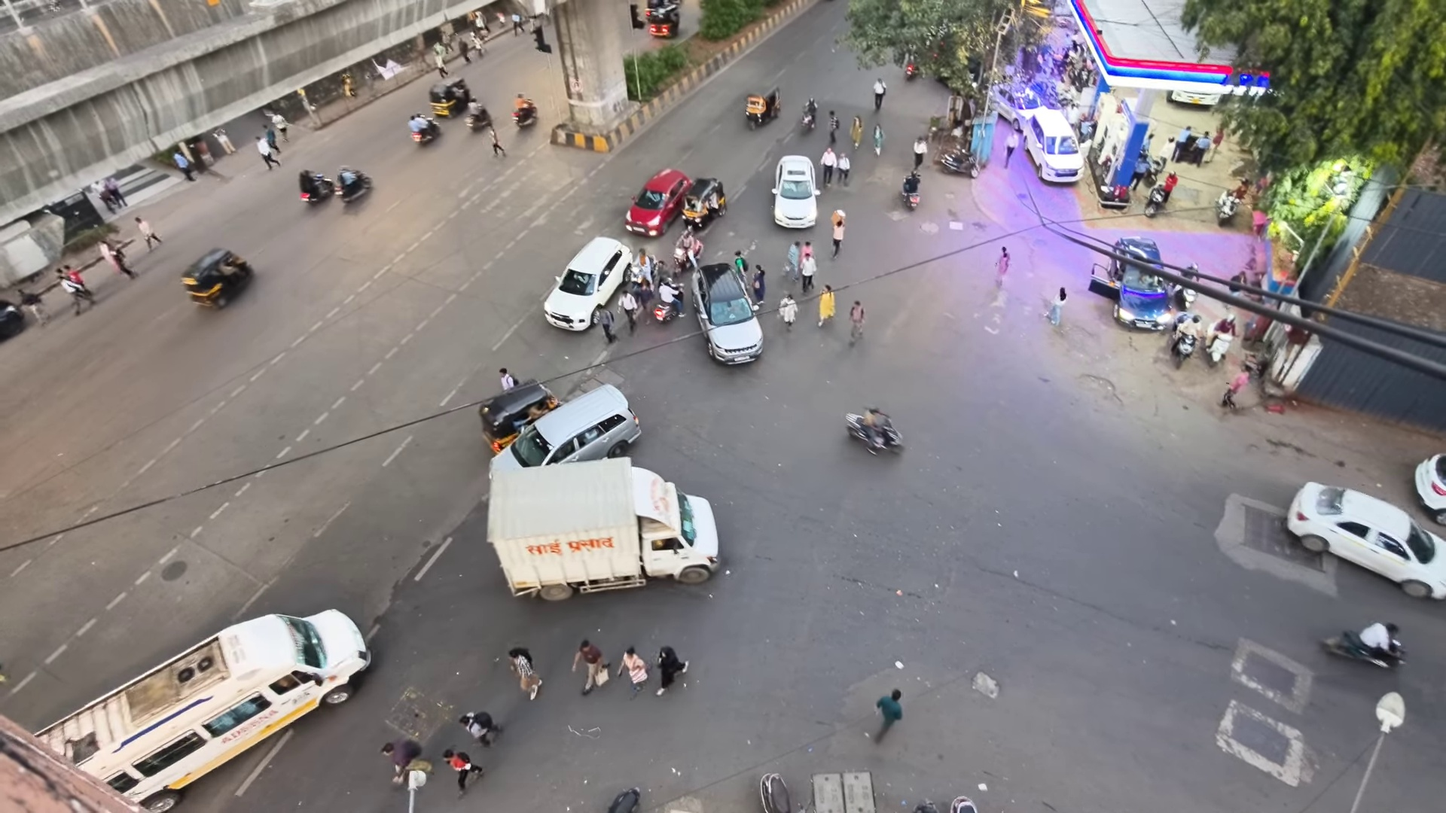driving: (624, 169, 691, 236)
walking: (572, 640, 608, 695), (442, 750, 483, 796), (381, 738, 422, 784), (56, 266, 94, 314), (508, 647, 541, 699), (459, 711, 502, 747), (656, 645, 687, 694), (874, 689, 901, 742), (618, 647, 647, 696), (99, 240, 135, 279), (1221, 369, 1249, 410), (20, 289, 47, 325), (135, 216, 162, 249), (620, 290, 639, 334), (1130, 153, 1151, 190), (103, 178, 128, 208), (1171, 126, 1192, 161), (258, 136, 280, 169), (818, 285, 835, 327), (1048, 288, 1066, 326), (800, 251, 816, 293), (779, 293, 797, 329), (850, 300, 865, 343), (1205, 127, 1223, 162), (1194, 133, 1213, 166), (820, 147, 836, 186), (212, 128, 236, 154), (173, 150, 193, 181), (598, 307, 615, 343), (785, 241, 801, 279), (432, 41, 447, 78), (996, 247, 1010, 286), (270, 111, 288, 141), (832, 213, 844, 258), (264, 125, 281, 155), (1005, 132, 1019, 168), (489, 126, 505, 157), (752, 265, 764, 303), (913, 136, 926, 170), (850, 117, 863, 151), (456, 36, 471, 63), (837, 154, 850, 185), (874, 78, 886, 111), (499, 368, 516, 391), (733, 250, 748, 276), (829, 110, 840, 145), (873, 123, 883, 155), (511, 13, 523, 35), (801, 241, 813, 259)
